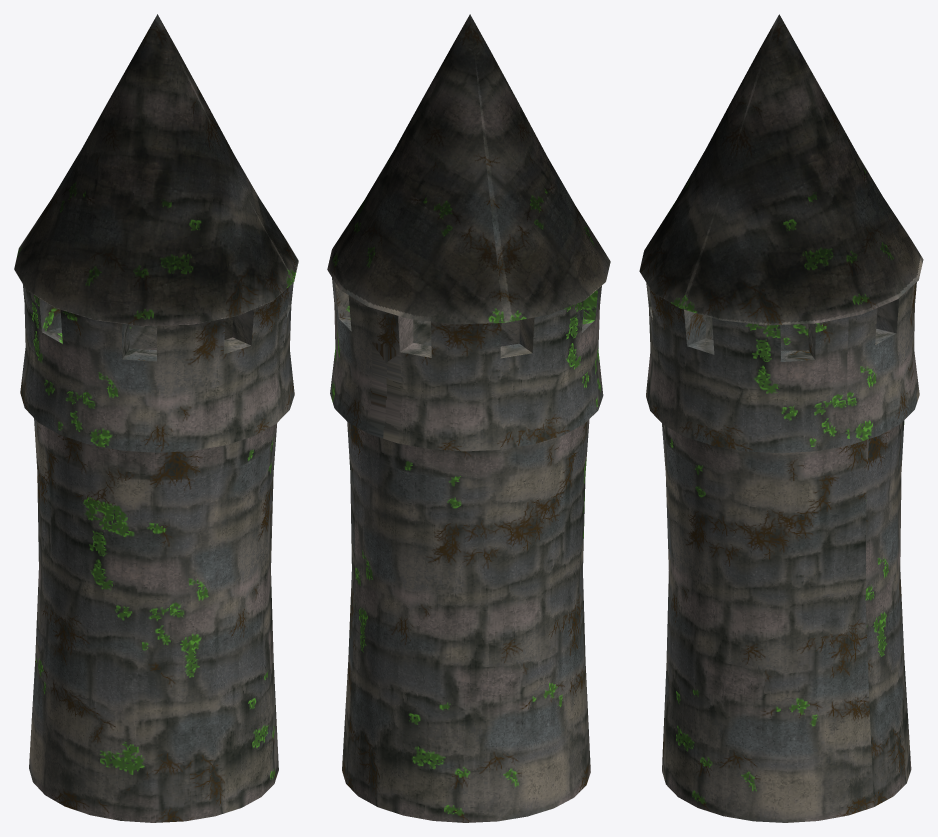
The model's file is Tower.FBX.
3 renders of one model, left to right at view 1: azimuth 30°, elevation 25°; view 2: azimuth 150°, elevation 25°; view 3: azimuth 270°, elevation 25°, orthographic.
Parts seen in each view (by area): view 1: Cylinder101; view 2: Cylinder101; view 3: Cylinder101.
Boxes of the visible parts, left/top/right/bottom form: Cylinder101: left=14, top=14, right=298, bottom=822; Cylinder101: left=327, top=14, right=610, bottom=822; Cylinder101: left=639, top=14, right=923, bottom=822.
Bounding box in the file's own units: 147 × 433 × 147.
Materials: 1 (1 with a texture image).
